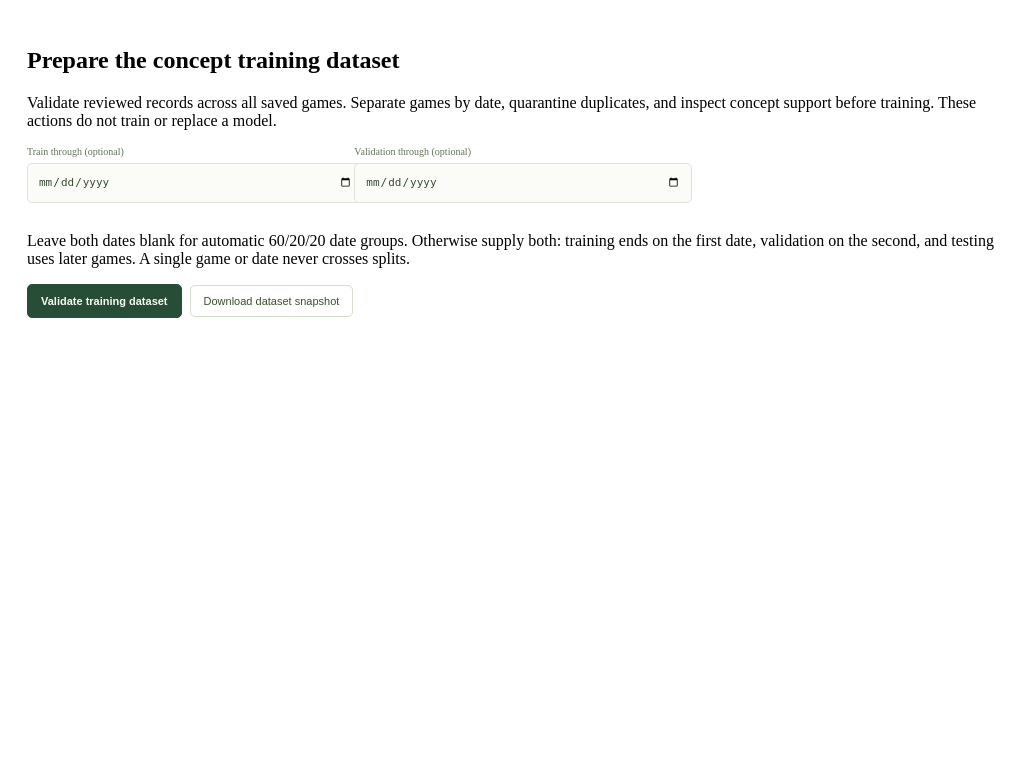
it: shows blockers instead of claiming training is ready
Click the button "Validate training dataset".
click(104, 301)  # box [27,284,182,318]
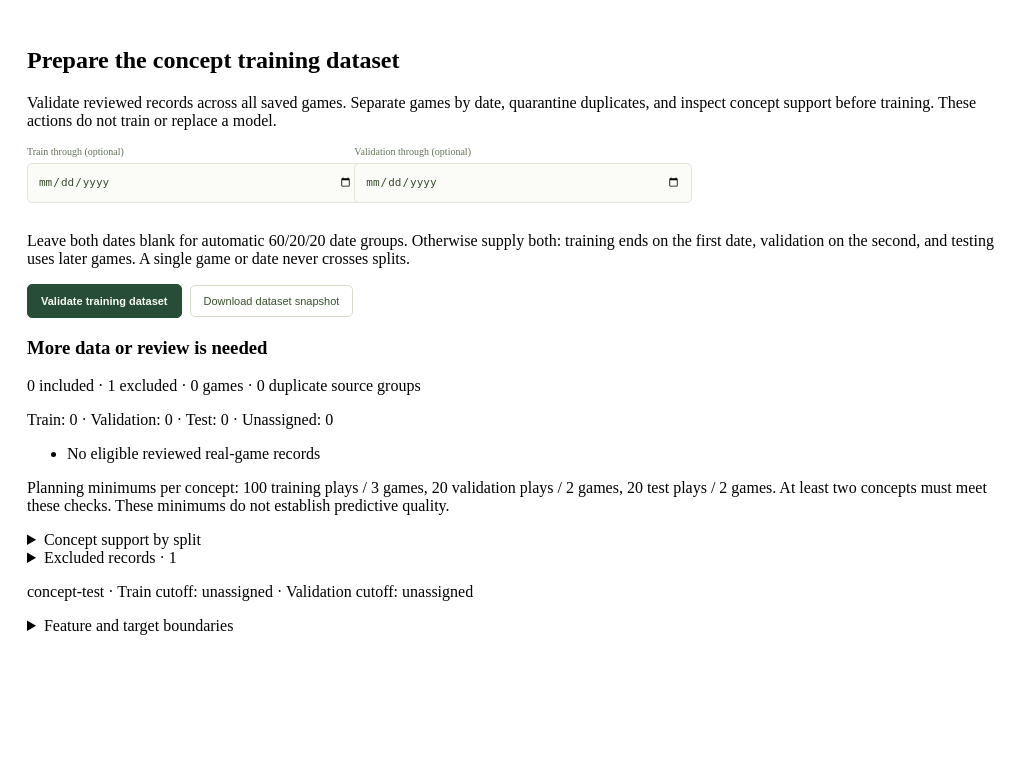
Check: the heading "More data or review is needed" is shown, box [27,336,268,358]
Check: the list item "No eligible reviewed real-game records" is shown, box [67,445,320,462]
Type "2024-09-01" into the date field labelled "Train through (optional)".
click(196, 183); type("2024-09-01")  # box [27,163,364,203]
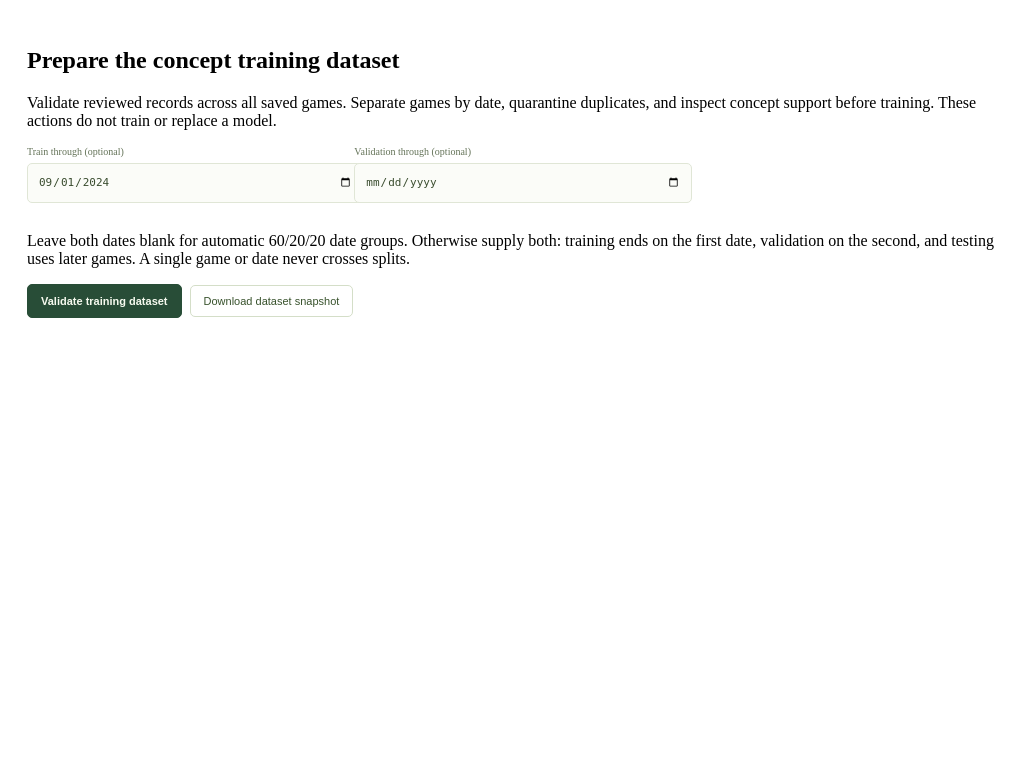
Check: the heading "More data or review is needed" is gone
